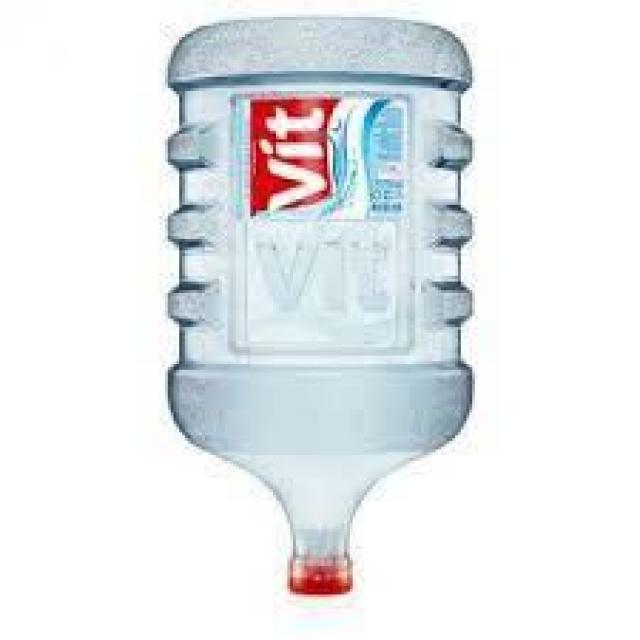Galon: (159, 11, 478, 598)
